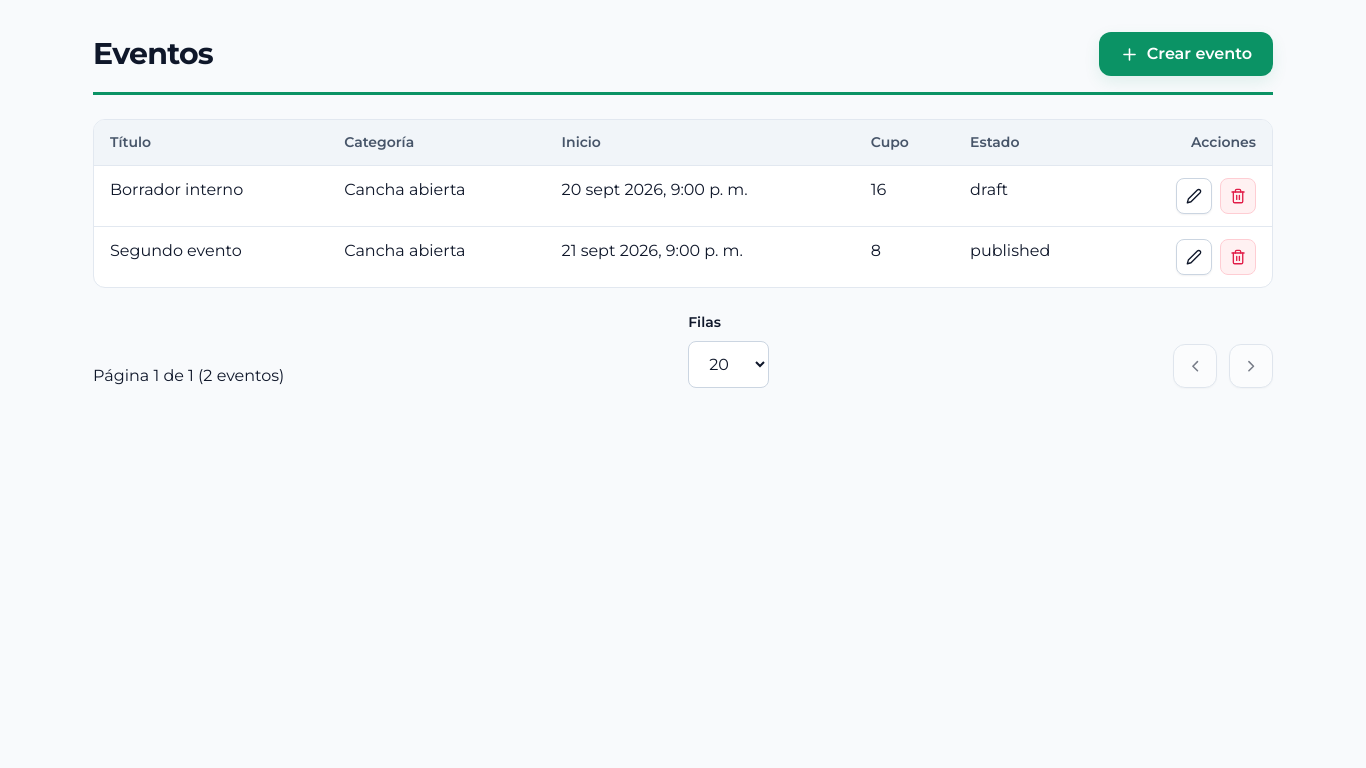
Test: EventsList › refreshes a successful edit without closing the management modal
This screenshot has width=1366, height=768.
Click the button named "Ver/editar" in the row of "Borrador interno".
click(1194, 196)  # box [1176,178,1212,214]
(page scrolled)
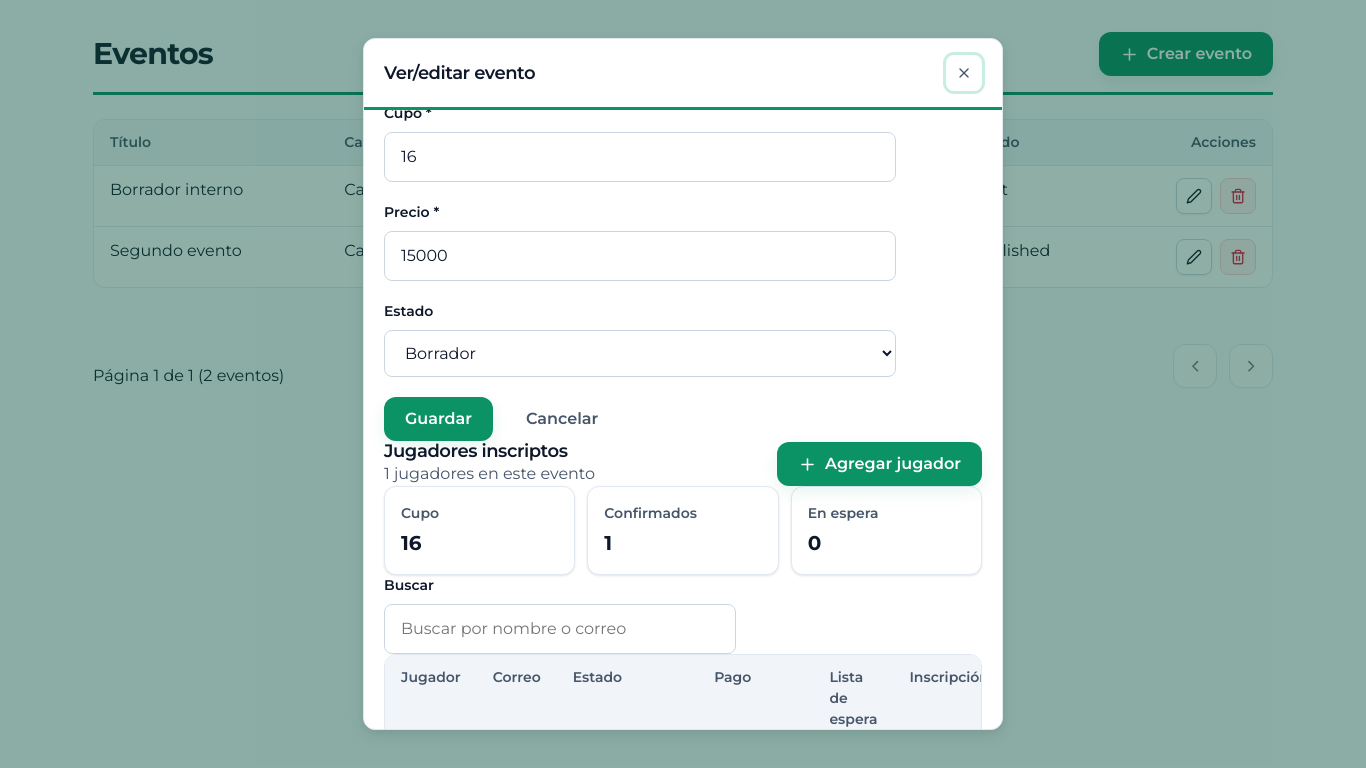
Click the button "Guardar".
click(438, 419)  # box [384,397,493,441]
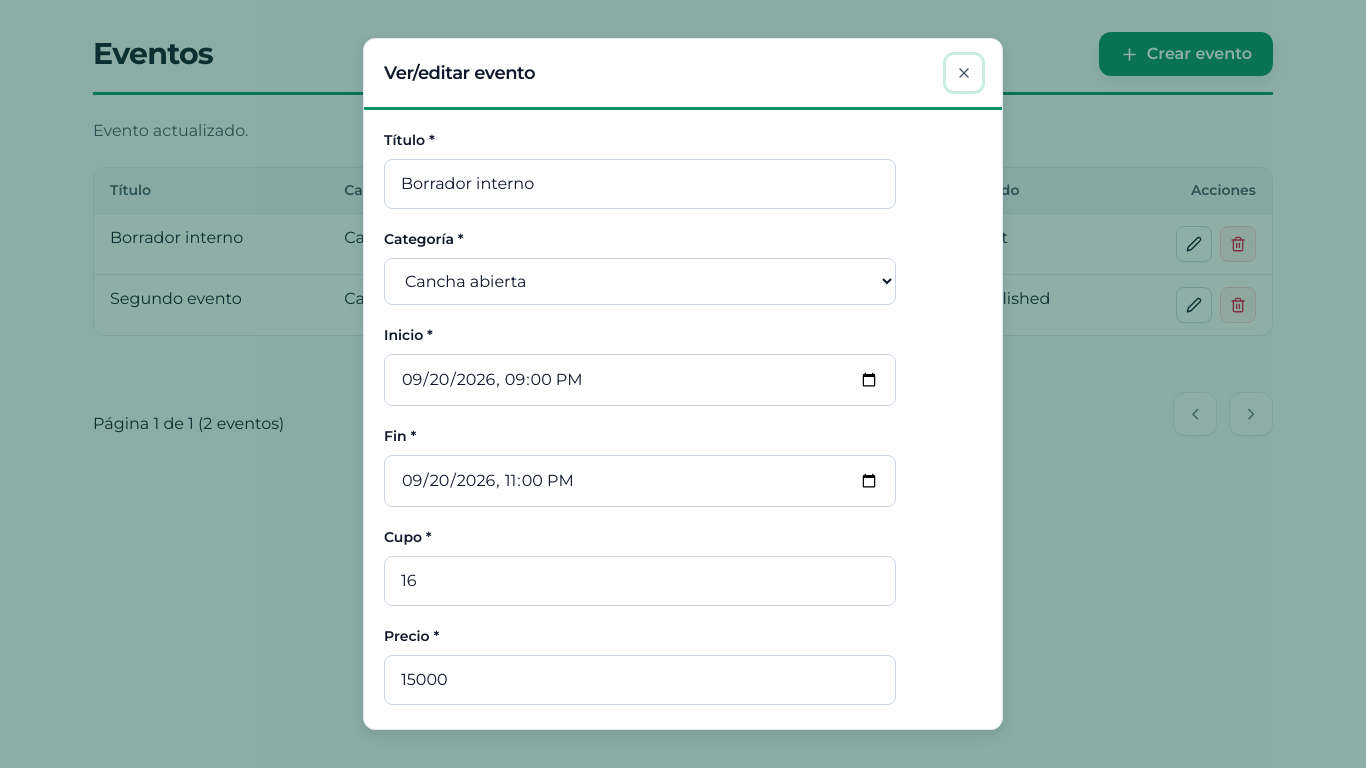
Expected: the dialog "Ver/editar evento" is shown, [363,38,1003,730]
Expected: the text "Evento actualizado." is shown, [93,121,248,140]
